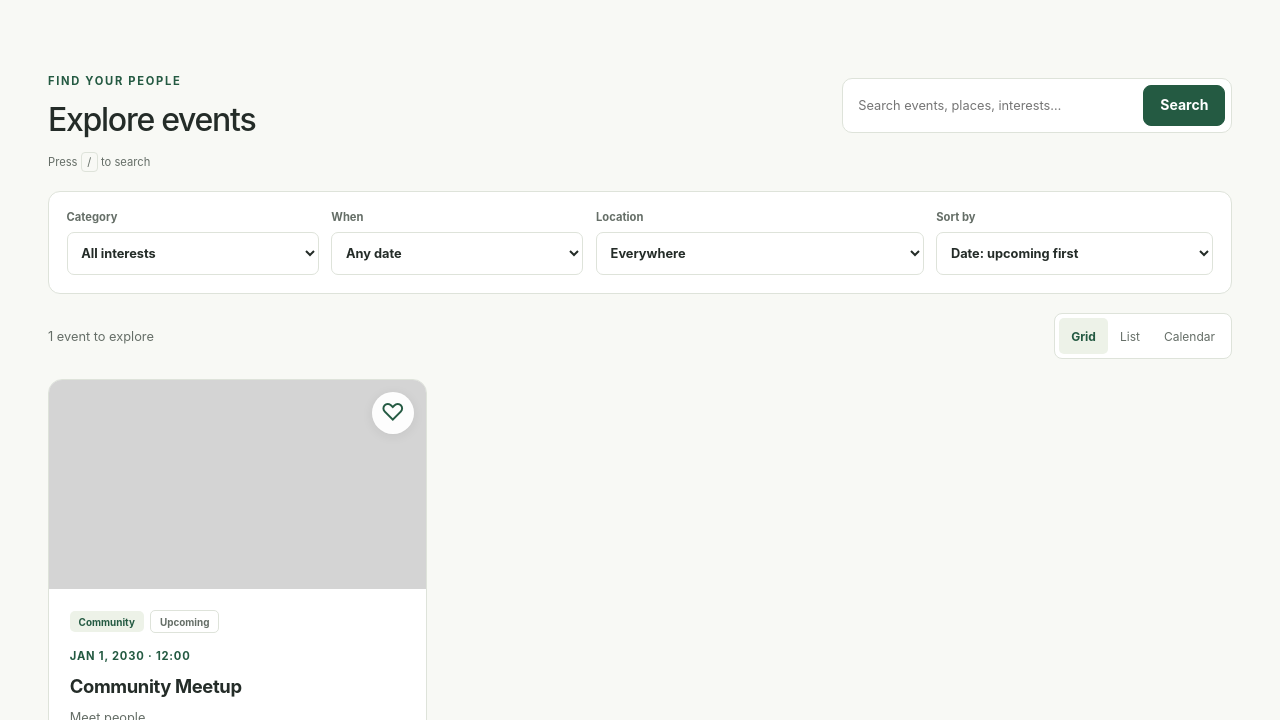
Test: renders search results and clears an empty search
Expected: the heading "Community Meetup" is shown, [70,675,242,697]
Type "unknown" into the search field.
click(992, 106); type("unknown")  # box [849,85,1135,126]
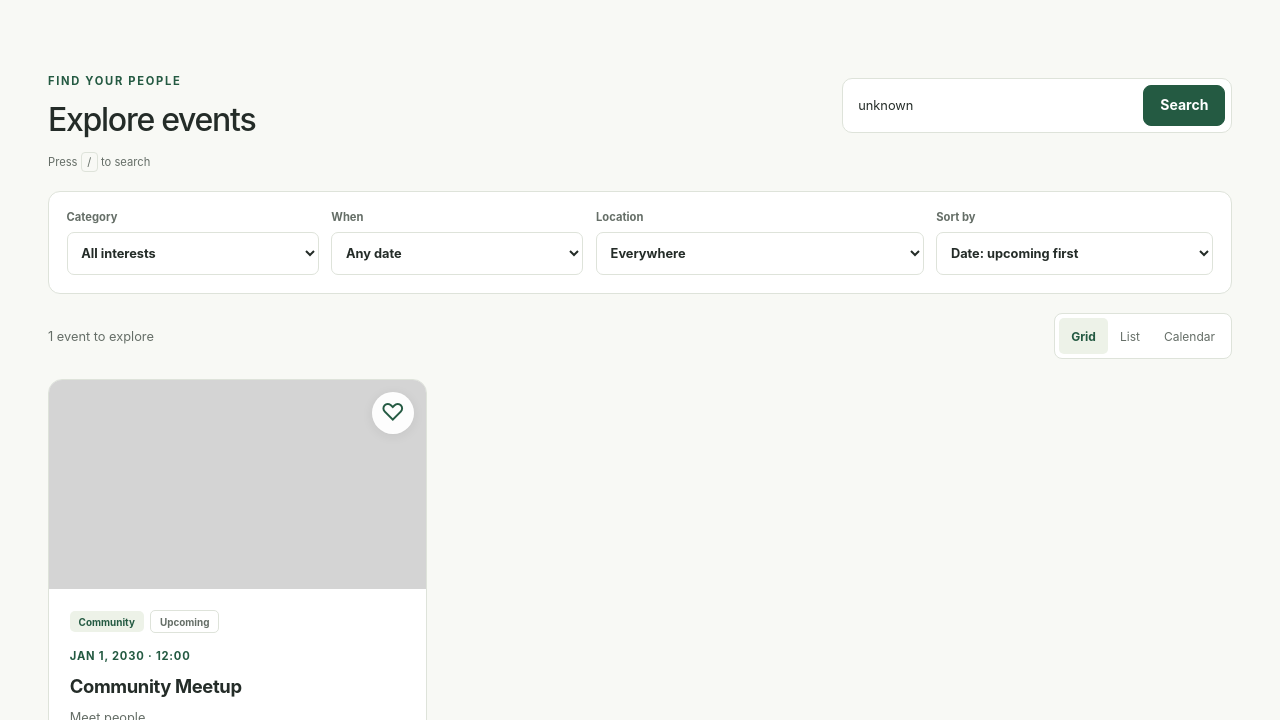
Click the button "Search".
click(1184, 106)  # box [1143,85,1225,126]
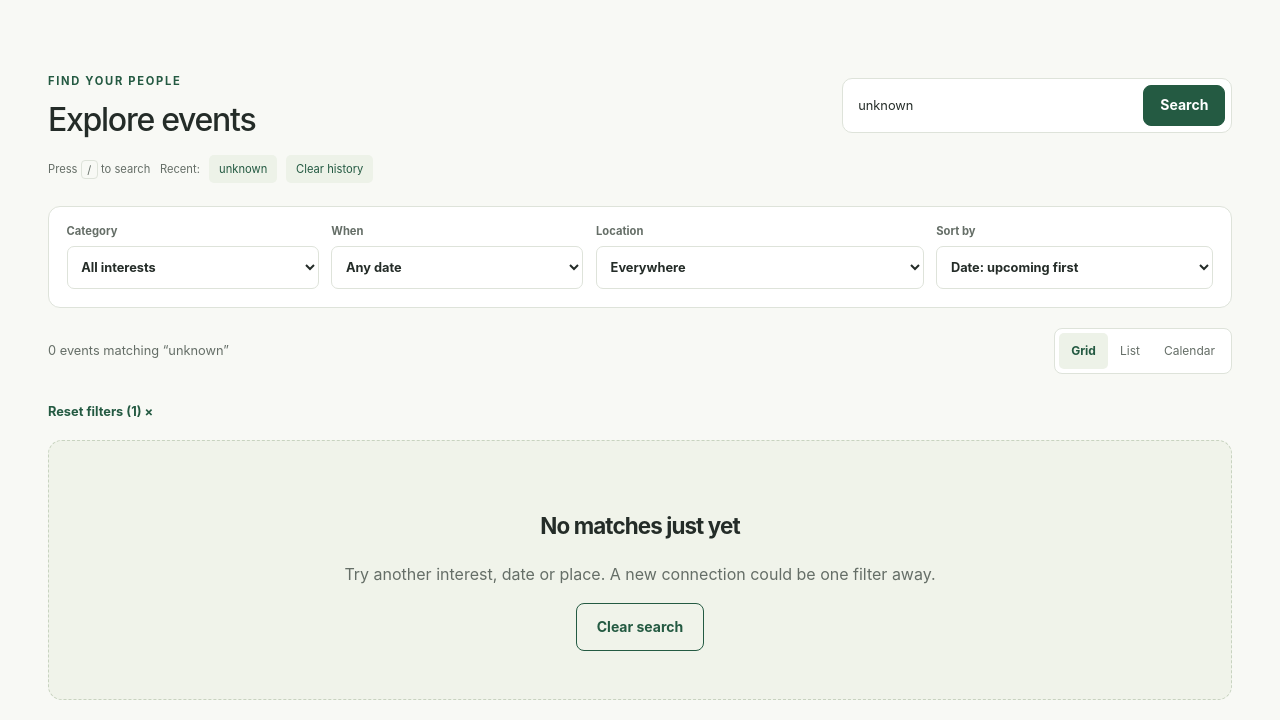
Now the heading "No matches just yet" is shown, box [540,512,740,538]
Click the button "Clear search".
click(640, 627)  # box [576,603,704,651]
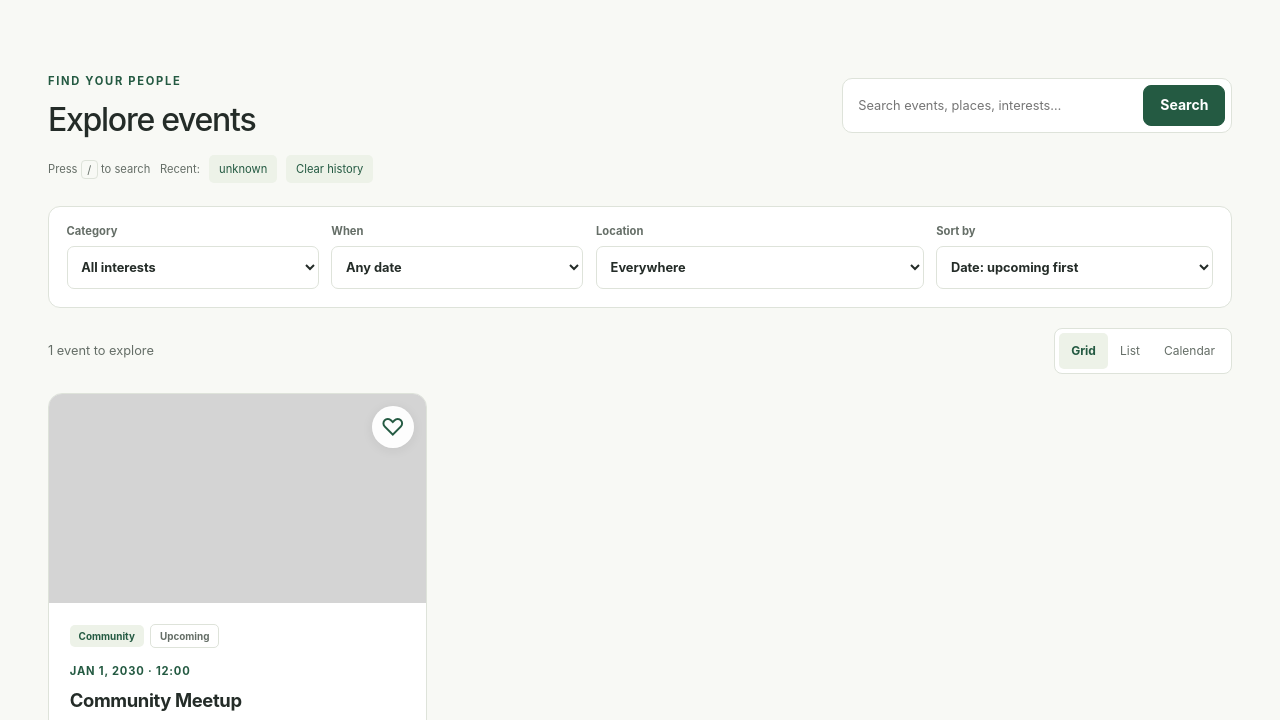
Now the heading "Community Meetup" is shown, box [70,689,242,711]
Now the search field is empty, box [849,85,1135,126]
